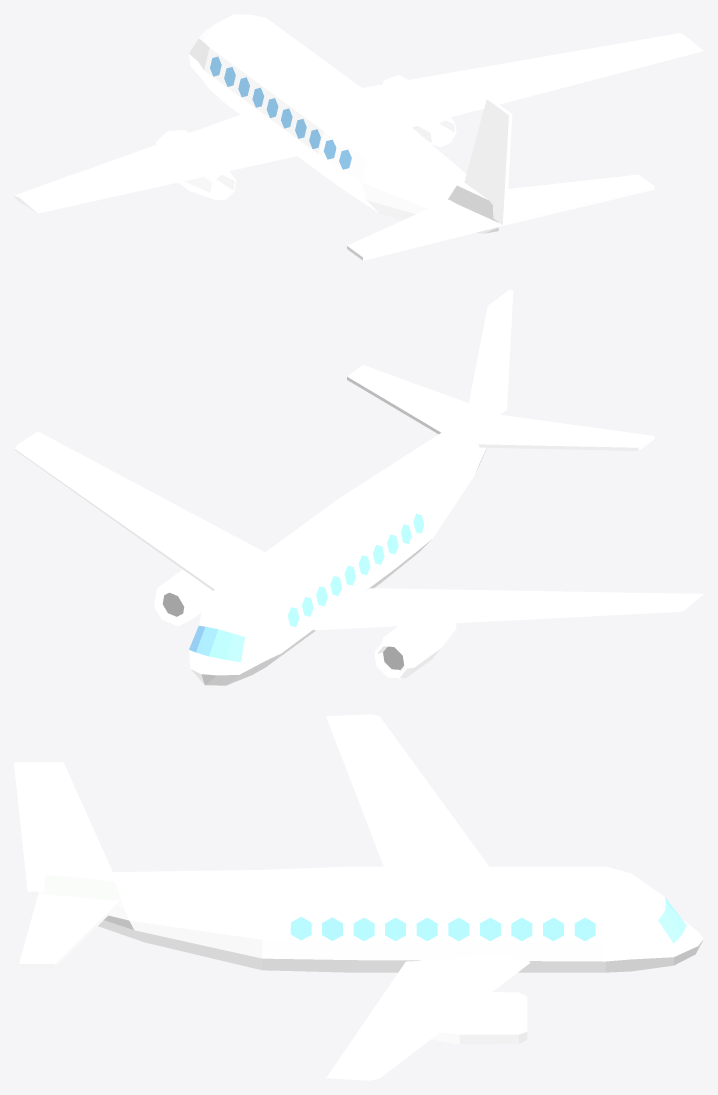
The model's file is transport_air.003.glb.
The picture shows the model from 3 angles, top to bottom: view 1: azimuth 30°, elevation 25°; view 2: azimuth 150°, elevation 25°; view 3: azimuth 270°, elevation 25°; orthographic projection. The views are drawn at different scales.
Parts seen in each view (by area): view 1: transport_air.003(Clone); view 2: transport_air.003(Clone); view 3: transport_air.003(Clone).
Part boxes in pixels (x1,y1,x2,y2): transport_air.003(Clone): (14,14,703,260); transport_air.003(Clone): (14,289,703,685); transport_air.003(Clone): (14,714,703,1080).
Size of the model in its own units: 27.39 by 7.71 by 22.05.
1 material, 1 textured.
